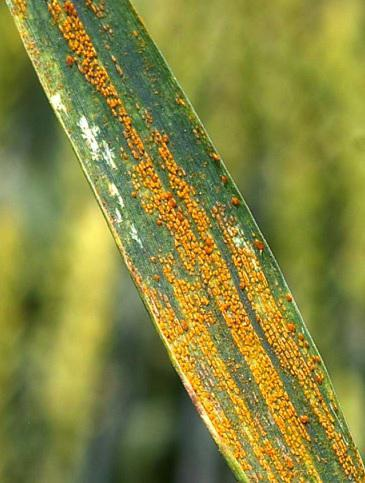Wheat: (133, 222, 338, 461), (43, 8, 219, 242)
